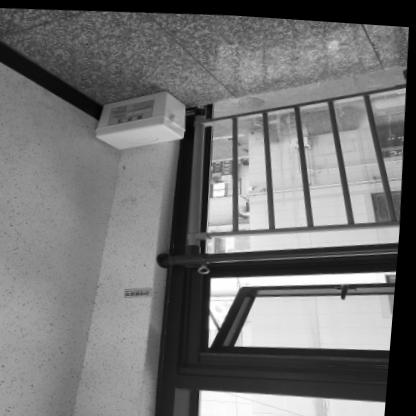DDL: (94, 83, 190, 151)
